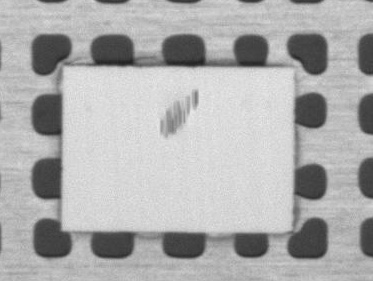DIE_INK: (159, 87, 199, 139)
